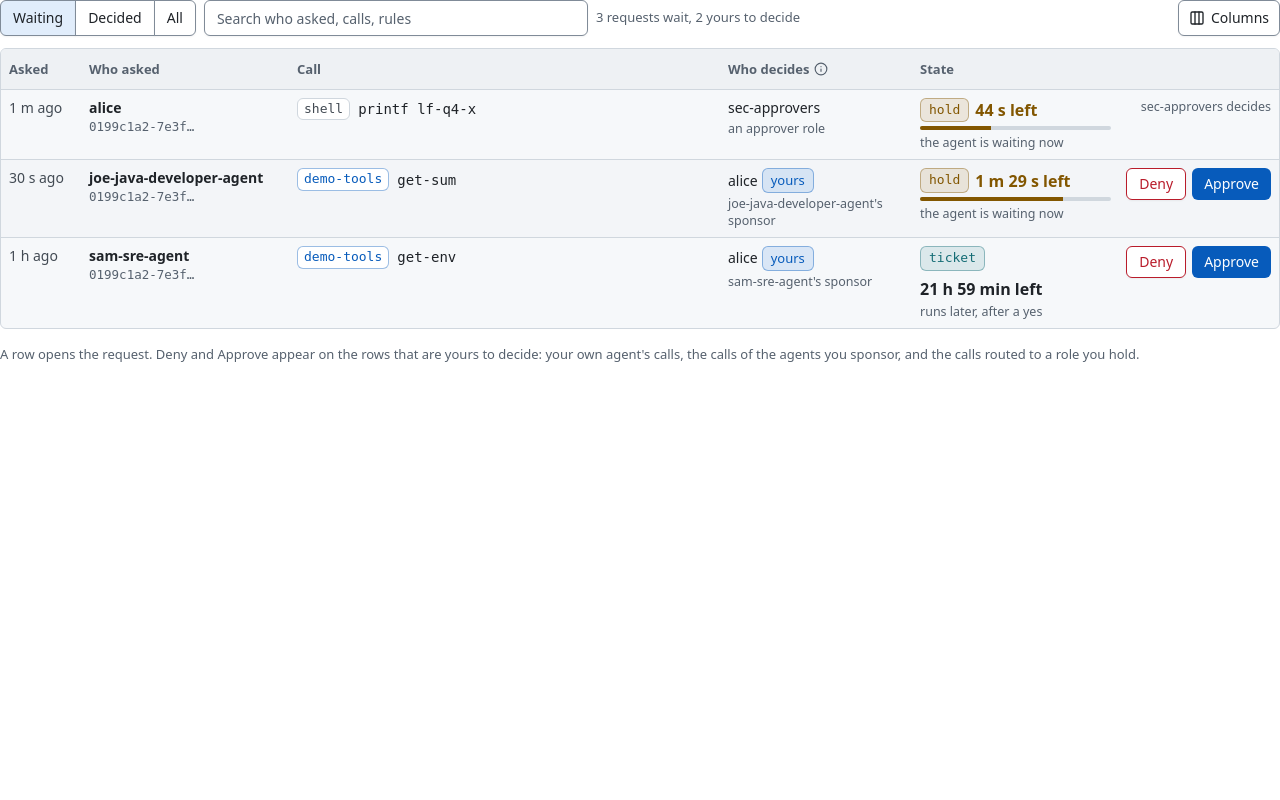
Scenario: the self-service requests tab › tells the person the decision is theirs and leaves out every console door
The image size is (1280, 800).
Click the button with aria-label "Open get-sum for joe-java-developer-agent": (36, 178) [1,160,1279,238]
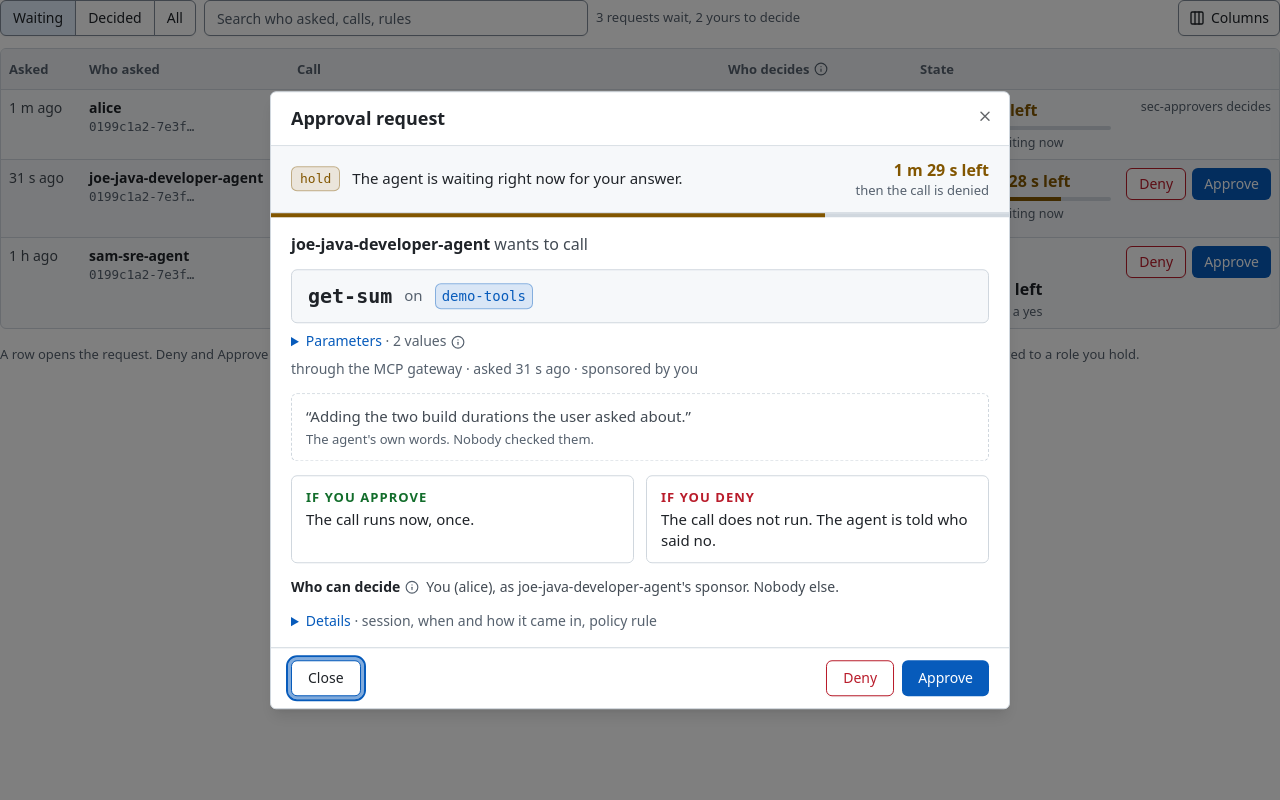
Check: the text "You (alice), as joe-java-developer-agent's sponsor. Nobody else." is shown, box [426,578,839,596]
